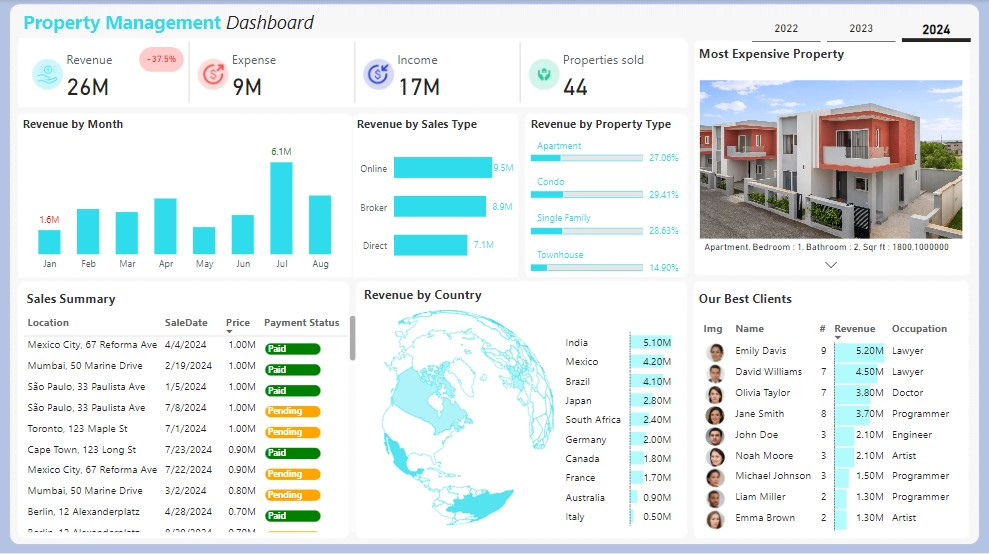

Layout of this report page (visuals, bound fields, positions):
{"tool":"powerbi","page":{"name":"Page 1","canvas":[1280,720],"ordinal":0},"visuals":[{"type":"advancedSlicerVisual","fields":{"Values":["Calendar.Year"]},"box":[968.2,11.8,293.6,50],"z":0},{"type":"cardVisual","fields":{"Data":["All Measures.Revenue","All Measures.Expense","All Measures.Income","All Measures.Properties sold"]},"box":[25.9,50.4,859.8,89.2],"z":1000},{"type":"card","fields":{"Values":["All Measures.Revenue Growth"]},"box":[181,62.1,58.2,32.3],"z":2000},{"type":"shape","box":[181,62.1,58.2,32.3],"z":3000},{"type":"clusteredColumnChart","fields":{"Y":["All Measures.Revenue"],"Category":["Calendar.Month"]},"box":[26.2,151.2,430,208.8],"z":4000},{"type":"clusteredBarChart","title":"Revenue by  Sales Type","fields":{"Y":["All Measures.Revenue"],"Category":["Sales_Table.Means of Sales"]},"box":[457.5,151.2,212.5,208.8],"z":5000},{"type":"clusteredBarChart","title":"Revenue by  Property Type","fields":{"Y":["All Measures.Base Zero","All Measures.% GT","All Measures.whole"],"Category":["Property_Table.Type"]},"box":[682.7,151.3,203,208.2],"z":6000},{"type":"tableEx","fields":{"Values":["Property_Table.Location","Sales_Table.SaleDate","Sum(Property_Table.Price)","All Measures.Payment Status SVG"]},"box":[25.9,403.4,440.9,290.9],"z":7000},{"type":"shapeMap","fields":{"Category":["Property_Table.Country"],"Value":["All Measures.Revenue"]},"box":[466.7,371.1,254.7,323.2],"z":8000},{"type":"tableEx","fields":{"Values":["Property_Table.Country","All Measures.Revenue"]},"box":[721.5,391.8,164.2,302.5],"z":9000},{"type":"tableEx","fields":{"Values":["Client_Table.Img","Client_Table.Name","All Measures.Properties sold","All Measures.Revenue","Client_Table.Occupation"]},"box":[899.3,411,362.5,283.6],"z":10000},{"type":"advancedSlicerVisual","fields":{"Values":["Property_Table.Description"]},"box":[899.9,78.9,353,280.6],"z":11000},{"type":"textbox","box":[25.9,8,537.9,50.4],"z":11001},{"type":"textbox","box":[899.9,54.3,300,40.1],"z":11002},{"type":"textbox","box":[899.9,371.1,300,40.1],"z":11003},{"type":"textbox","box":[31,371.1,300,32.3],"z":11004}]}

Visuals, with their boxes in screenshot pixels (x1, y1, x2, y2), scaled from the page's 1280x720 canvas onto the 989x554 screenshot:
advancedSlicerVisual - Calendar.Year: [left=748, top=9, right=975, bottom=48]
cardVisual - All Measures.Revenue x All Measures.Expense: [left=20, top=39, right=684, bottom=107]
card - All Measures.Revenue Growth: [left=140, top=48, right=185, bottom=73]
shape: [left=140, top=48, right=185, bottom=73]
clusteredColumnChart - All Measures.Revenue x Calendar.Month: [left=20, top=116, right=352, bottom=277]
"Revenue by  Sales Type" clusteredBarChart: [left=353, top=116, right=518, bottom=277]
"Revenue by  Property Type" clusteredBarChart: [left=527, top=116, right=684, bottom=277]
tableEx - Property_Table.Location x Sales_Table.SaleDate: [left=20, top=310, right=361, bottom=534]
shapeMap - Property_Table.Country x All Measures.Revenue: [left=361, top=286, right=557, bottom=534]
tableEx - Property_Table.Country x All Measures.Revenue: [left=557, top=301, right=684, bottom=534]
tableEx - Client_Table.Img x Client_Table.Name: [left=695, top=316, right=975, bottom=534]
advancedSlicerVisual - Property_Table.Description: [left=695, top=61, right=968, bottom=277]
textbox: [left=20, top=6, right=436, bottom=45]
textbox: [left=695, top=42, right=927, bottom=73]
textbox: [left=695, top=286, right=927, bottom=316]
textbox: [left=24, top=286, right=256, bottom=310]
